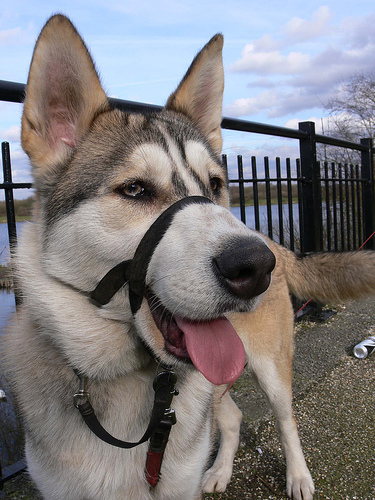dog: (0, 11, 373, 498)
